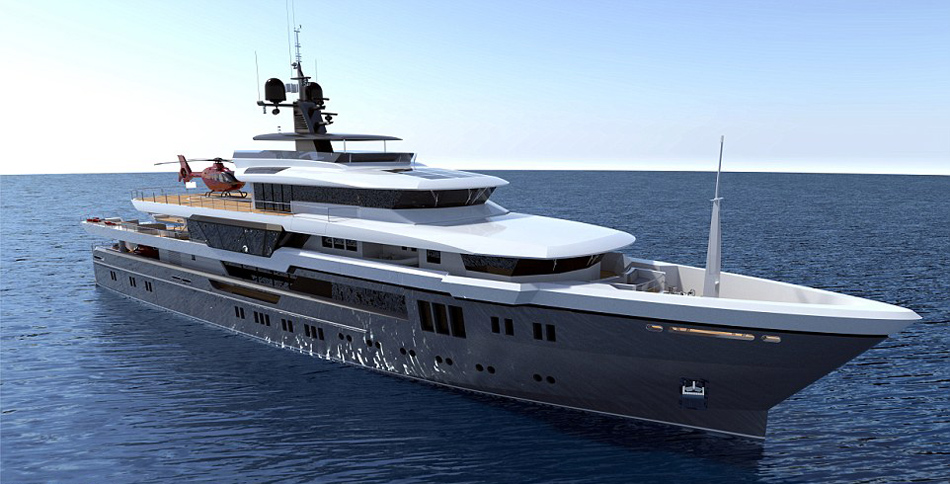yacht: (70, 48, 924, 420)
